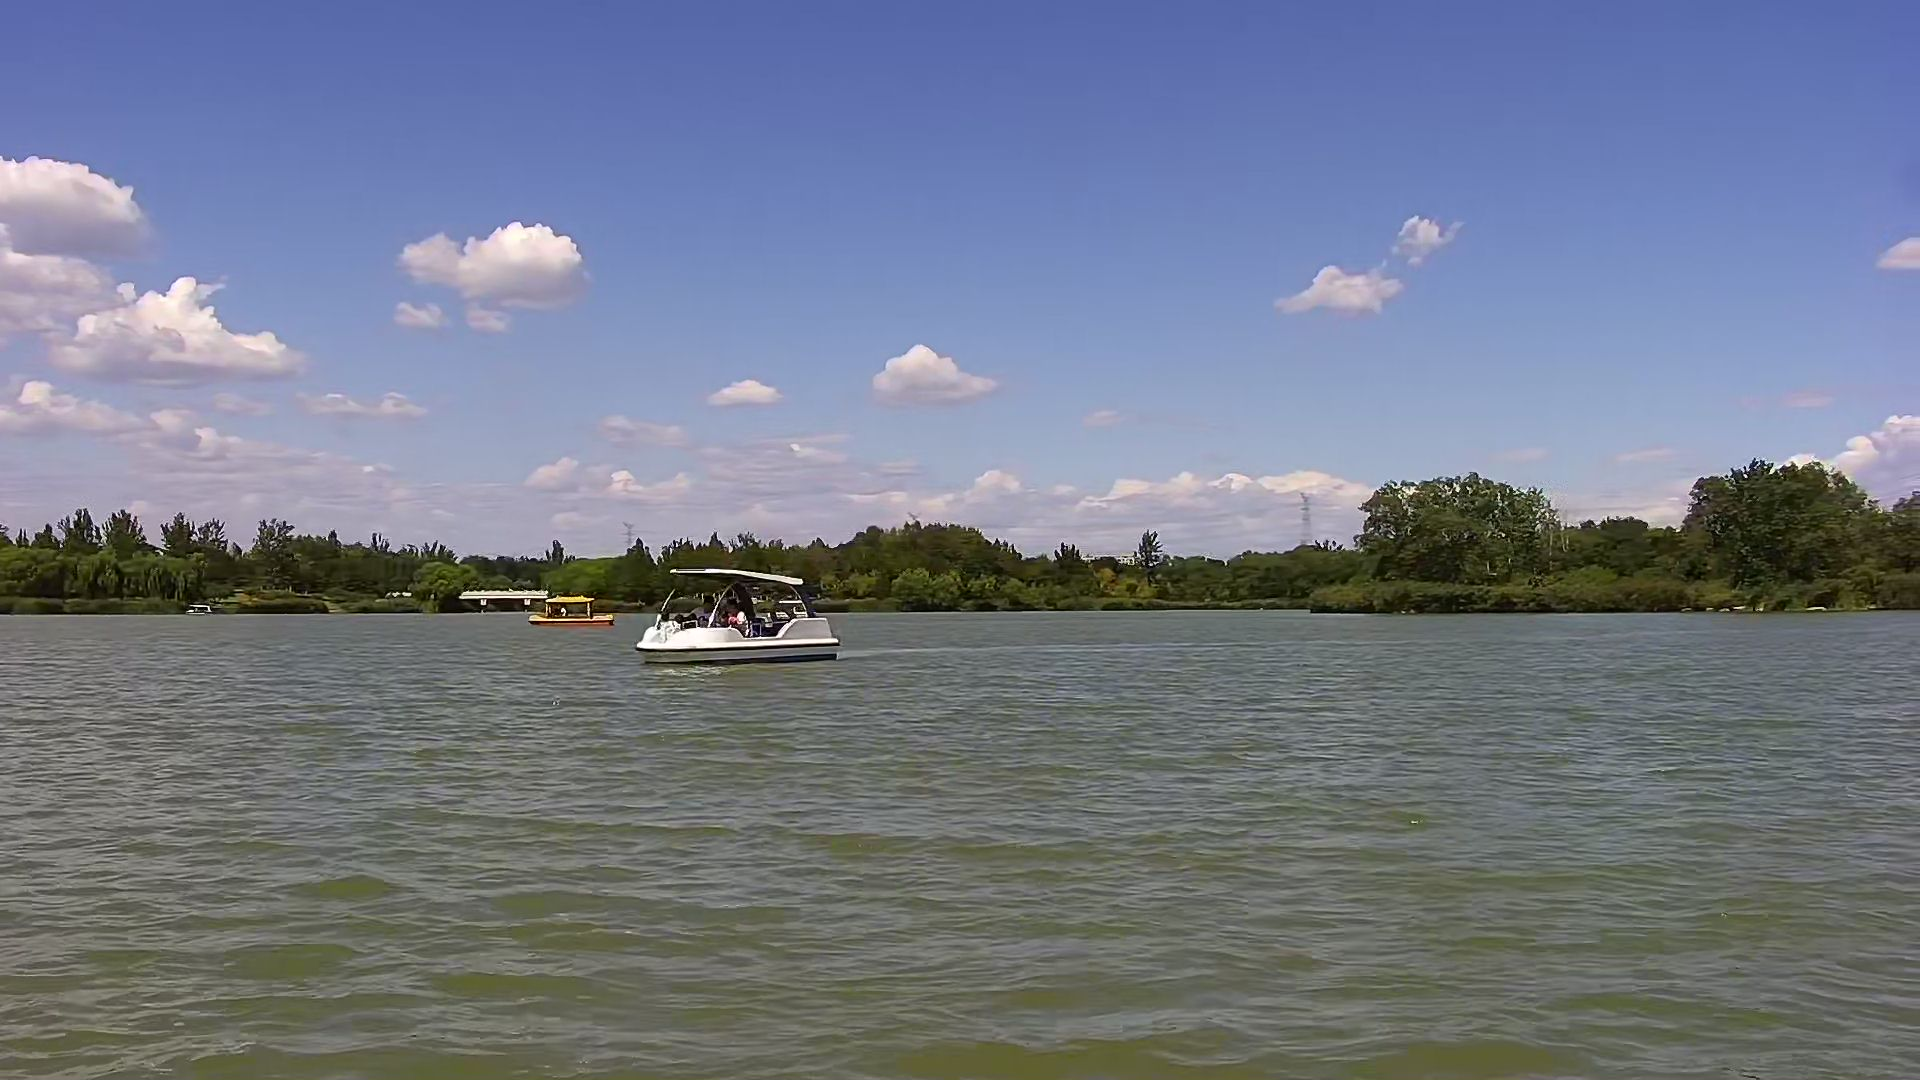boat: (640, 568, 837, 667), (529, 589, 617, 624)
bridge: (463, 587, 556, 611)
